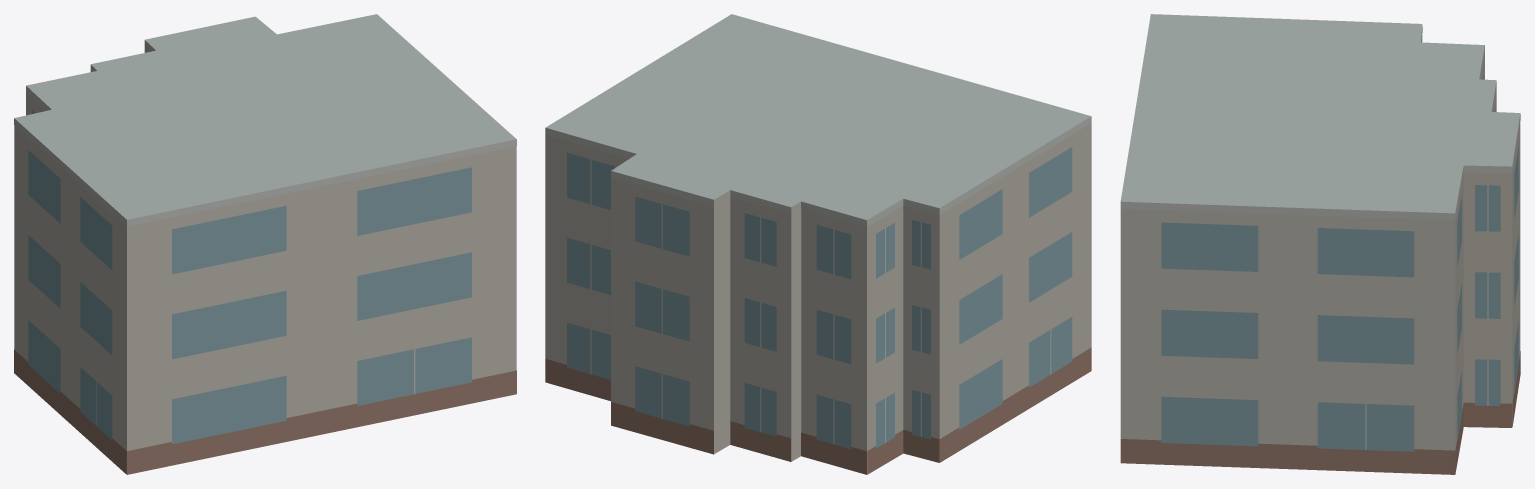
File: survey-upis-32693539.glb
3 views of the same model, side by side, from view 1: azimuth 30°, elevation 25°; view 2: azimuth 150°, elevation 25°; view 3: azimuth 270°, elevation 25° (orthographic). The views are drawn at different scales.
Visible parts, largest first — view 1: survey-upis-32693539.tmp; view 2: survey-upis-32693539.tmp; view 3: survey-upis-32693539.tmp.
Boxes of the visible parts, x1=… form: survey-upis-32693539.tmp: x1=14, y1=14, x2=516, y2=474; survey-upis-32693539.tmp: x1=545, y1=14, x2=1091, y2=474; survey-upis-32693539.tmp: x1=1120, y1=14, x2=1520, y2=474.
Bounding box in the file's own units: 14.97 × 9.15 × 12.69.
